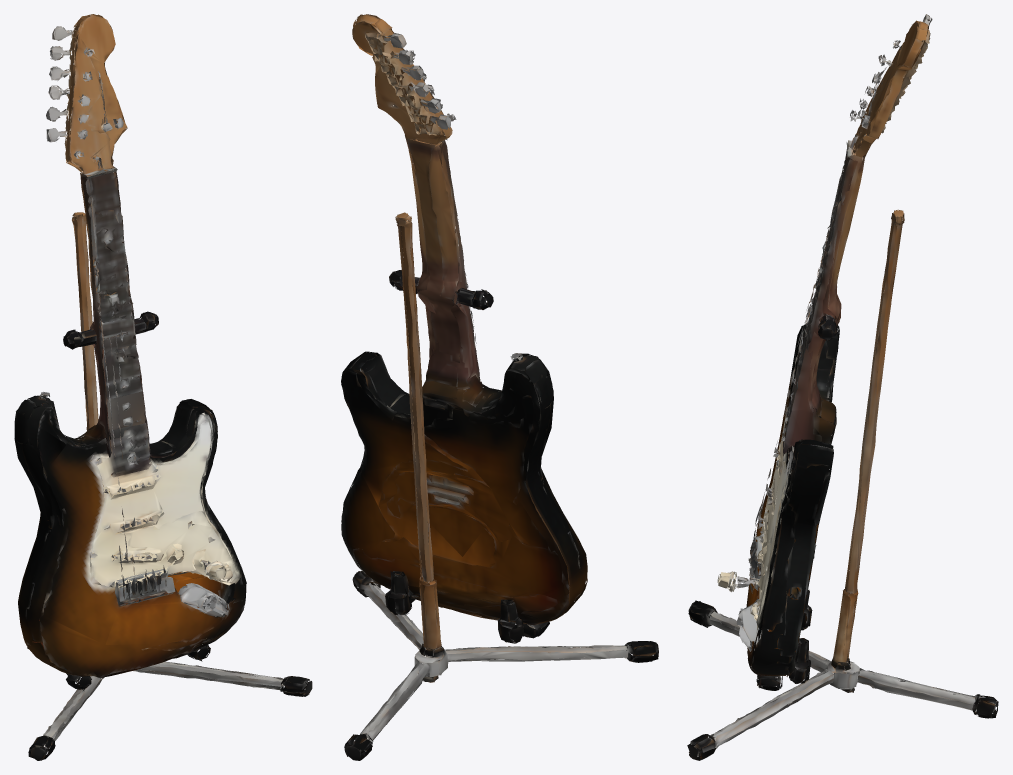
Rendered from guitar-e.glb.
3 views of the same model, side by side, from view 1: azimuth 30°, elevation 25°; view 2: azimuth 150°, elevation 25°; view 3: azimuth 270°, elevation 25° (orthographic). The views are drawn at different scales.
Parts seen in each view (by area): view 1: Mesh_0; view 2: Mesh_0; view 3: Mesh_0.
Boxes of the visible parts, left/top/right/bottom form: Mesh_0: left=14, top=14, right=312, bottom=760; Mesh_0: left=341, top=14, right=658, bottom=760; Mesh_0: left=687, top=14, right=998, bottom=760.
Bounding box in the file's own units: 0.45 × 1 × 0.4.
Materials: 1 (1 with a texture image).
